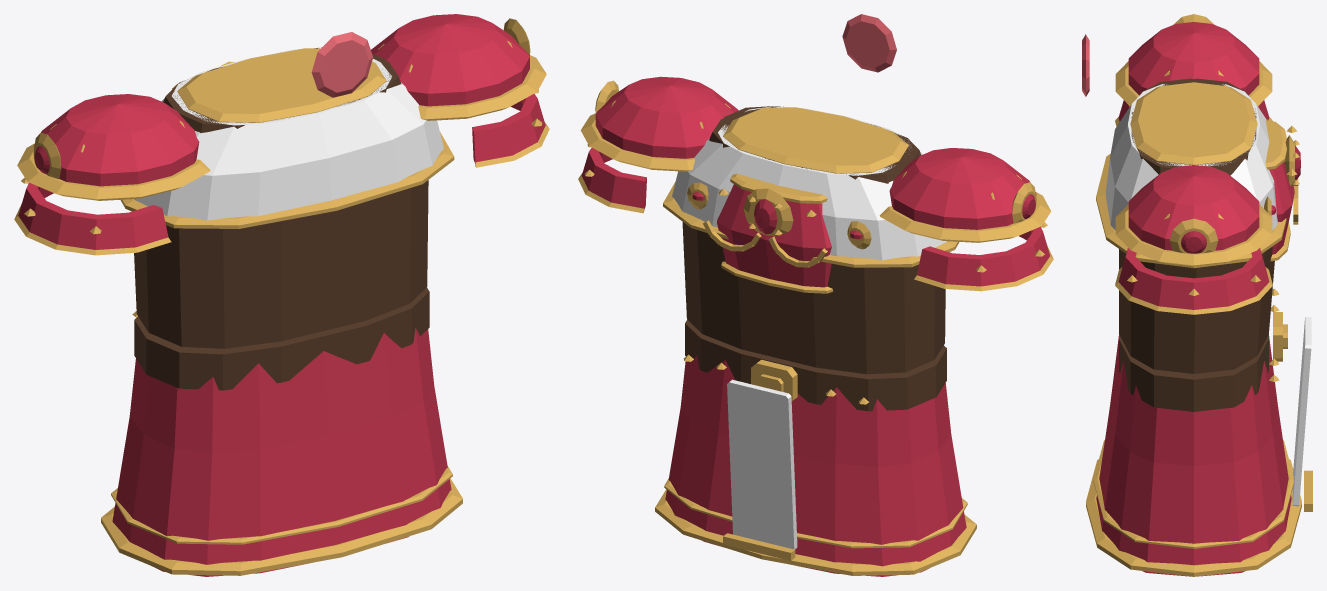
File: look3_armor_healer_relic.fbx
3 views of the same model, side by side, from view 1: azimuth 30°, elevation 25°; view 2: azimuth 150°, elevation 25°; view 3: azimuth 270°, elevation 25° (orthographic). The views are drawn at different scales.
Parts seen in each view (by area): view 1: Main, Tasset; view 2: Main, Tasset; view 3: Main, Tasset.
Part boxes in pixels (box(x1,y1,x2,y2)): Main: box(14, 14, 549, 390); Tasset: box(101, 328, 462, 576); Main: box(578, 14, 1053, 411); Tasset: box(655, 355, 976, 576); Main: box(1082, 14, 1300, 411); Tasset: box(1086, 317, 1312, 576).
Bounding box in the file's own units: 416 × 409 × 182.
